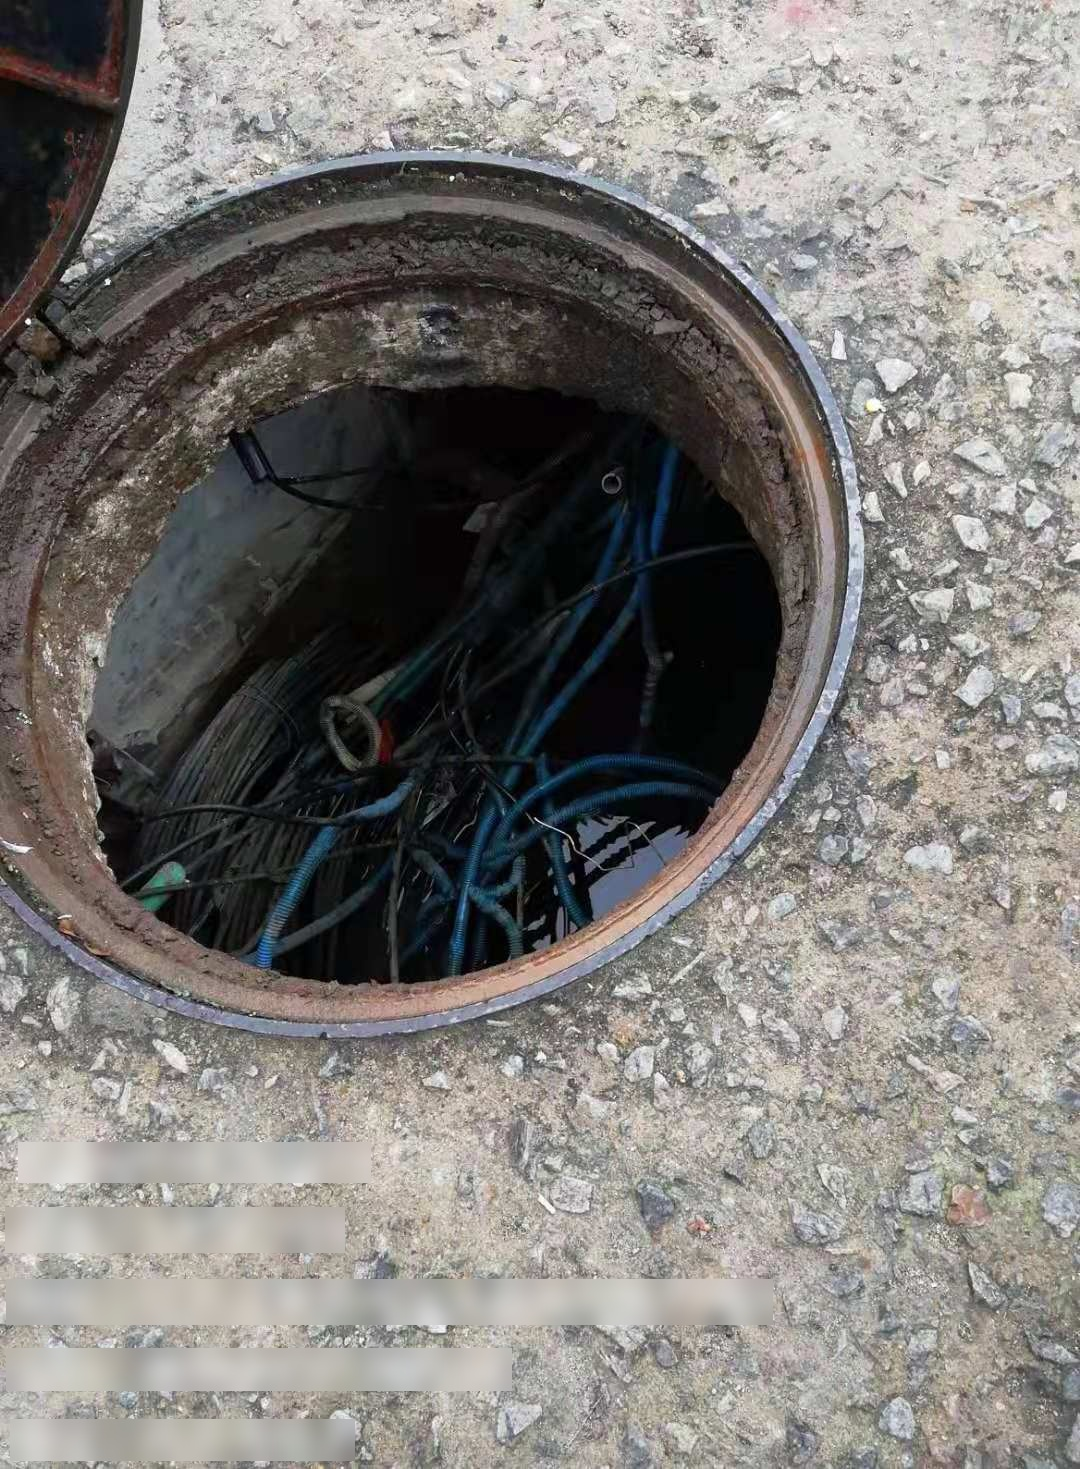lose: (8, 151, 863, 1048)
